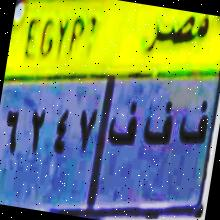2: (26, 102, 48, 156)
4: (52, 104, 71, 158)
6: (0, 102, 24, 162)
7: (74, 107, 98, 156)
faa: (172, 93, 212, 156), (138, 92, 178, 154), (103, 91, 142, 153)
